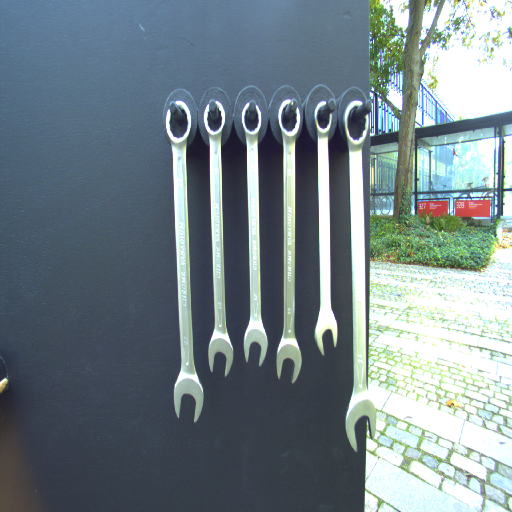bottom: (345, 390, 378, 451), (173, 371, 205, 426), (207, 329, 234, 379), (276, 336, 302, 384), (313, 314, 340, 357), (243, 321, 268, 367)
top: (165, 98, 194, 145), (343, 100, 369, 149), (276, 98, 303, 140), (201, 99, 228, 140), (240, 98, 264, 139), (313, 98, 335, 137)
